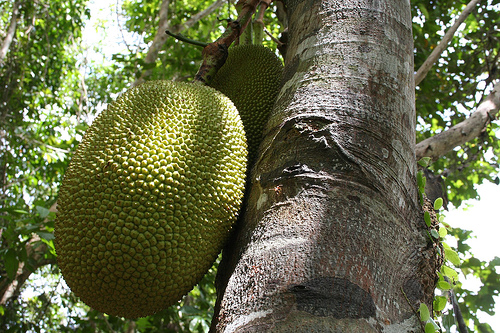jackfruit: (52, 82, 250, 316), (208, 43, 287, 156)
